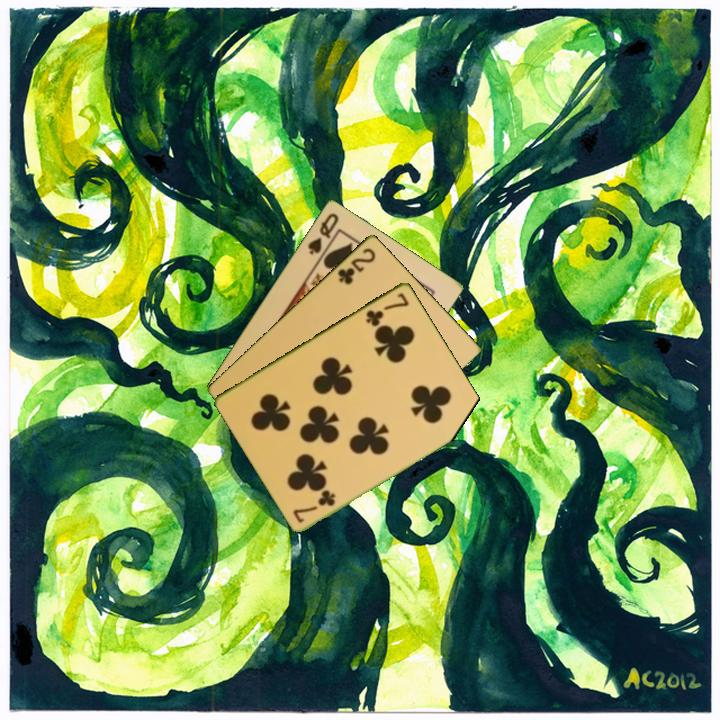2c: (334, 244, 378, 287)
7c: (362, 289, 412, 329), (289, 486, 339, 525)
Qs: (304, 209, 341, 257)
